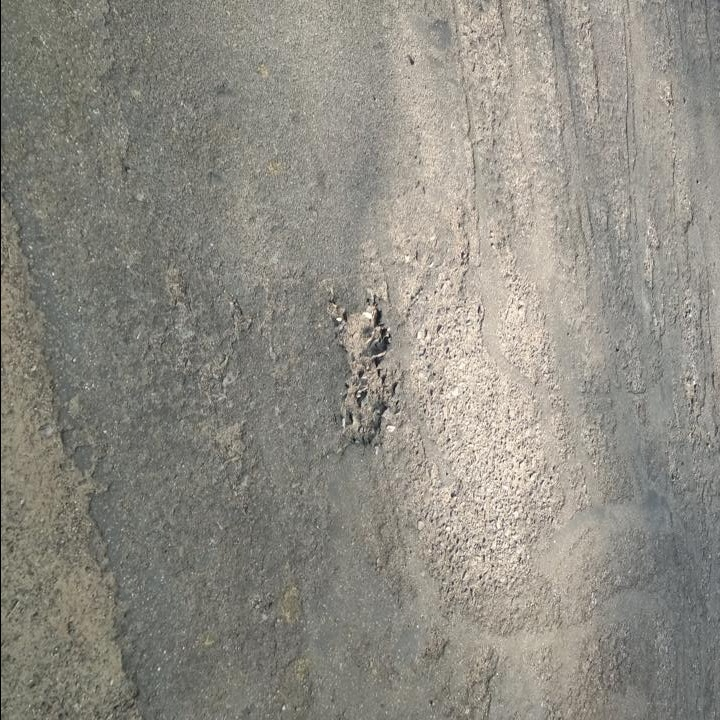pothole: (0, 160, 143, 720), (330, 291, 395, 444)
